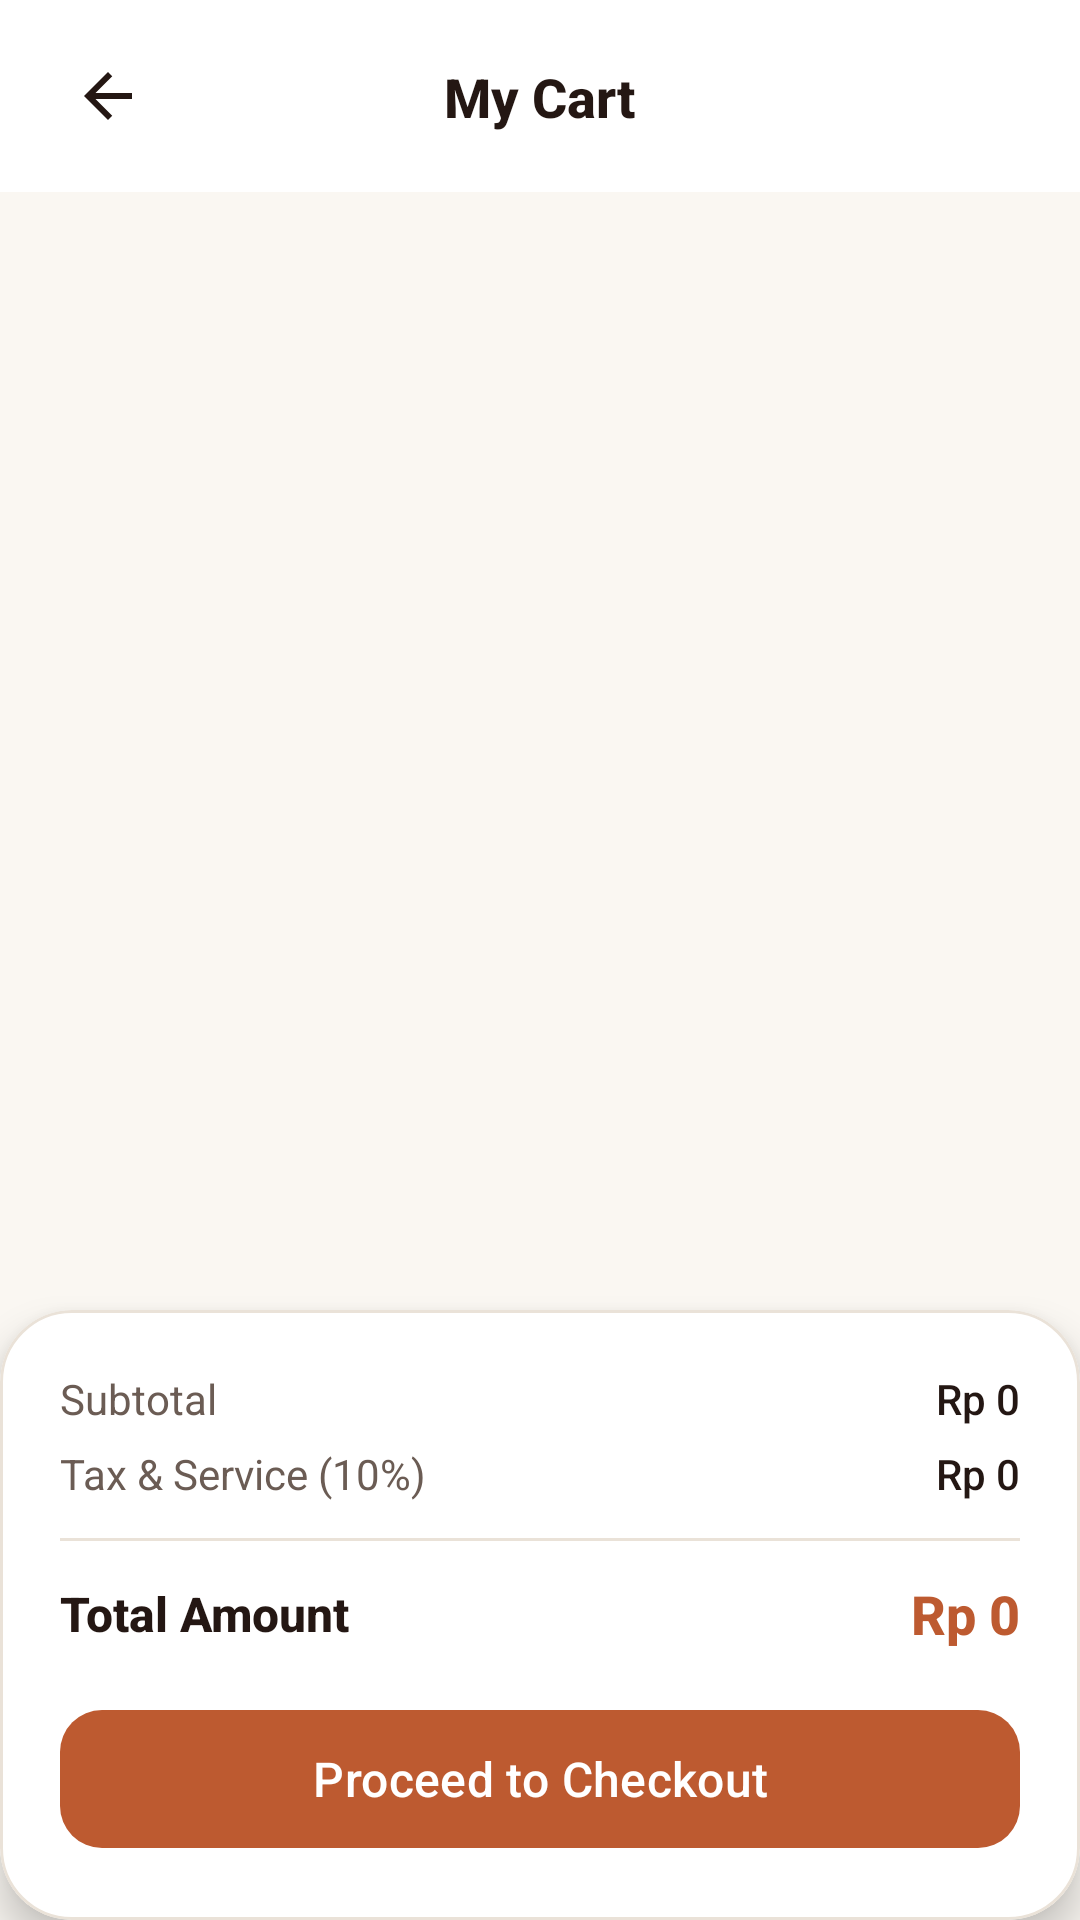

Locate icon controls on the screen. Image size 1080w x 1920h, boxes as box(x1, y1, x2, y2).
Back: box(84, 72, 132, 120)
